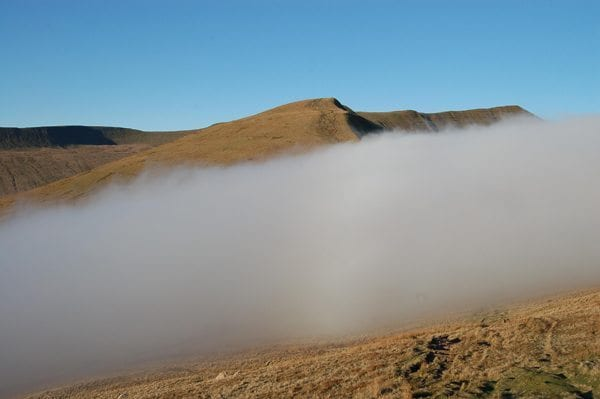Stratus: (9, 108, 600, 373)
